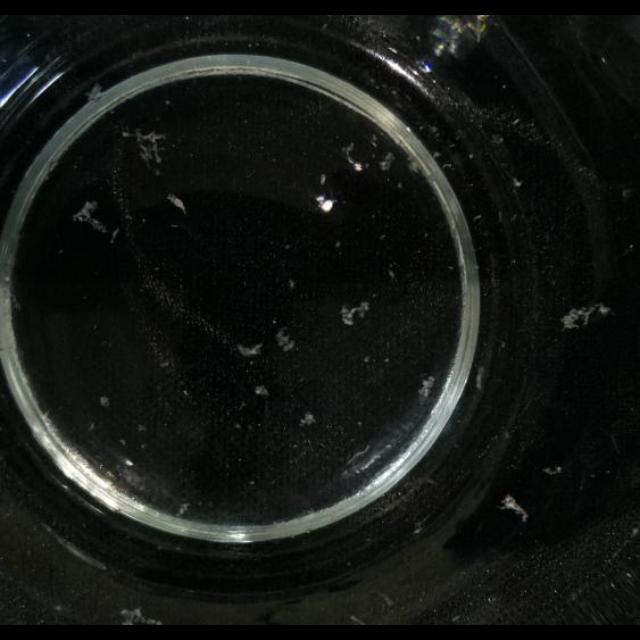Fibre: (125, 126, 167, 168), (560, 302, 612, 332), (74, 200, 112, 233), (118, 606, 162, 626), (499, 494, 528, 522), (341, 141, 367, 169), (340, 302, 370, 326), (276, 327, 296, 351), (236, 342, 264, 358), (83, 83, 105, 103), (417, 376, 435, 400), (168, 193, 186, 214), (378, 152, 396, 172), (299, 412, 315, 426)
microbeads: (314, 174, 336, 213), (542, 465, 562, 475), (254, 384, 268, 396), (598, 305, 612, 317), (98, 396, 110, 408), (512, 176, 522, 188)
